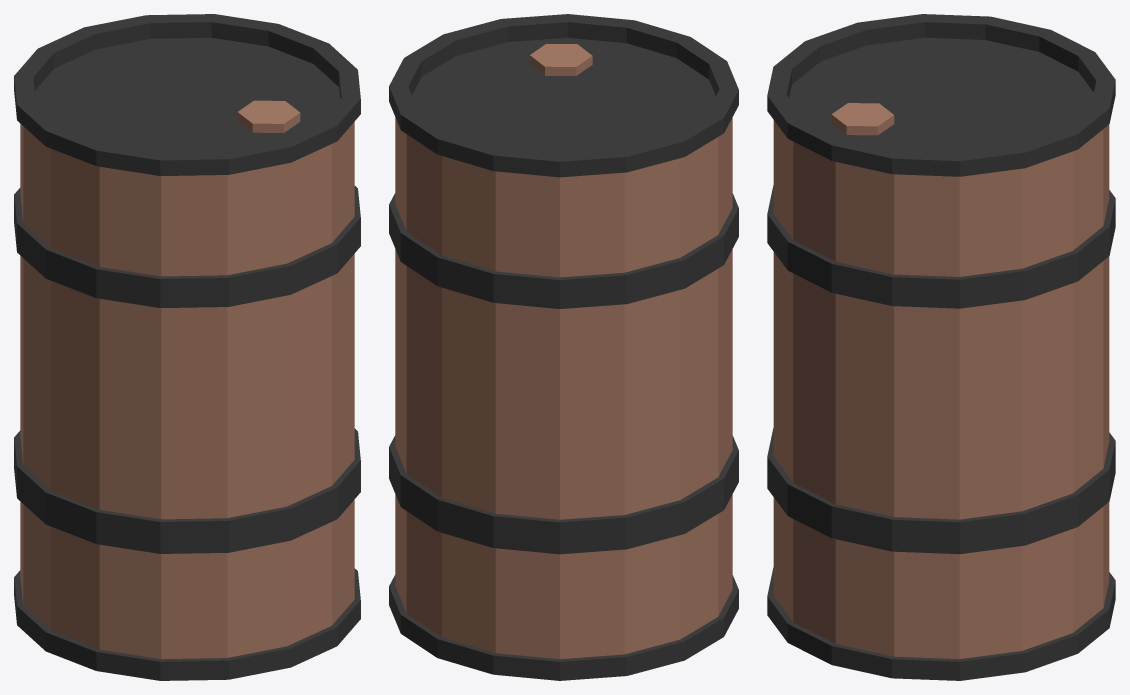
The model's file is barrel_a004.glb.
3 renders of one model, left to right at view 1: azimuth 30°, elevation 25°; view 2: azimuth 150°, elevation 25°; view 3: azimuth 270°, elevation 25°, orthographic.
Visible parts, largest first — view 1: barrel_a004; view 2: barrel_a004; view 3: barrel_a004.
Part boxes in pixels (<box>): barrel_a004: <box>14,14,360,680</box>; barrel_a004: <box>389,14,738,680</box>; barrel_a004: <box>767,14,1115,680</box>.
Bounding box in the file's own units: 0.5575 × 0.9177 × 0.5575.
1 material, 1 textured.
